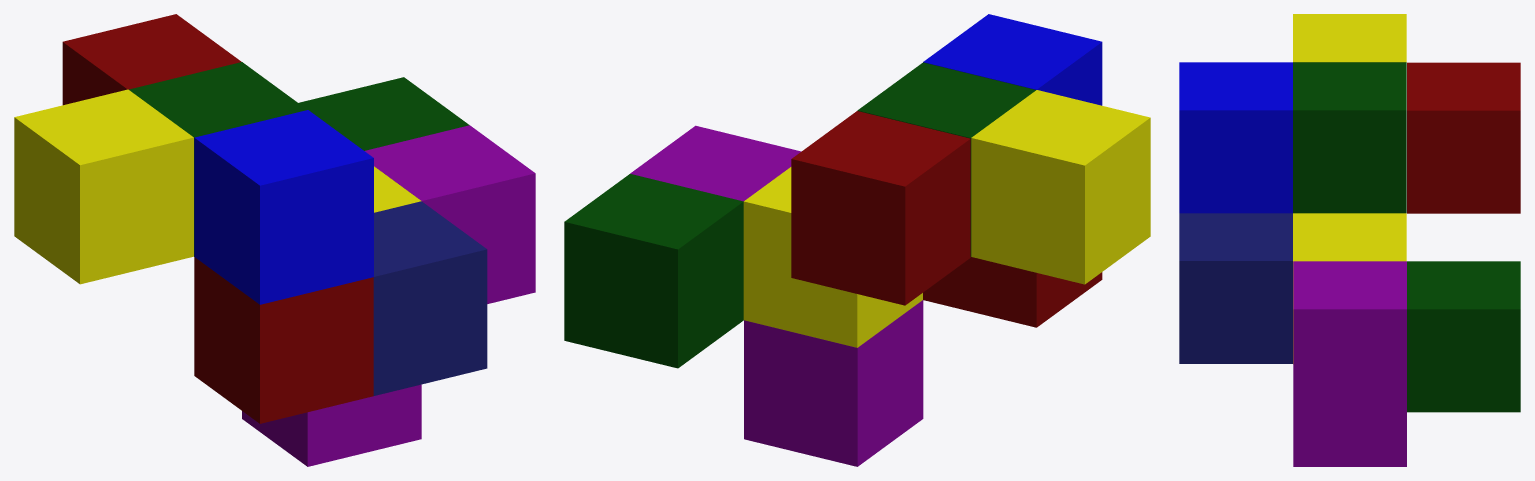
File: bex.fbx
3 renders of one model, left to right at view 1: azimuth 30°, elevation 25°; view 2: azimuth 150°, elevation 25°; view 3: azimuth 270°, elevation 25°, orthographic. The views are drawn at different scales.
Visible parts, largest first — view 1: Cube.009, Cube.002, Cube.003, Cube.004, Cube.005, Cube.007, Cube.008, Cube.006, Cube, Cube.001; view 2: Cube, Cube.007, Cube.009, Cube.008, Cube.001, Cube.002, Cube.006, Cube.005, Cube.003; view 3: Cube, Cube.002, Cube.005, Cube.006, Cube.007, Cube.004, Cube.008, Cube.001, Cube.009.
Boxes of the visible parts, x1=… form: Cube.009: x1=14, y1=89, x2=193, y2=284; Cube.002: x1=194, y1=110, x2=373, y2=304; Cube.003: x1=194, y1=257, x2=373, y2=423; Cube.004: x1=373, y1=201, x2=487, y2=395; Cube.005: x1=365, y1=125, x2=535, y2=303; Cube.007: x1=62, y1=14, x2=241, y2=105; Cube.008: x1=242, y1=384, x2=421, y2=466; Cube.006: x1=129, y1=62, x2=307, y2=256; Cube: x1=299, y1=77, x2=469, y2=150; Cube.001: x1=374, y1=166, x2=421, y2=212; Cube: x1=564, y1=174, x2=743, y2=368; Cube.007: x1=791, y1=111, x2=970, y2=305; Cube.009: x1=971, y1=90, x2=1150, y2=284; Cube.008: x1=744, y1=300, x2=923, y2=466; Cube.001: x1=743, y1=167, x2=922, y2=347; Cube.002: x1=923, y1=14, x2=1102, y2=105; Cube.006: x1=857, y1=62, x2=1035, y2=256; Cube.005: x1=630, y1=125, x2=801, y2=201; Cube.003: x1=923, y1=257, x2=1102, y2=327; Cube: x1=1407, y1=261, x2=1520, y2=412; Cube.002: x1=1179, y1=62, x2=1292, y2=213; Cube.005: x1=1293, y1=261, x2=1406, y2=412; Cube.006: x1=1293, y1=62, x2=1406, y2=213; Cube.007: x1=1407, y1=62, x2=1520, y2=213; Cube.004: x1=1179, y1=213, x2=1292, y2=363; Cube.008: x1=1293, y1=412, x2=1406, y2=466; Cube.001: x1=1293, y1=213, x2=1406, y2=363; Cube.009: x1=1293, y1=14, x2=1406, y2=62.
Size of the model in its own units: 800 by 600 by 601.
